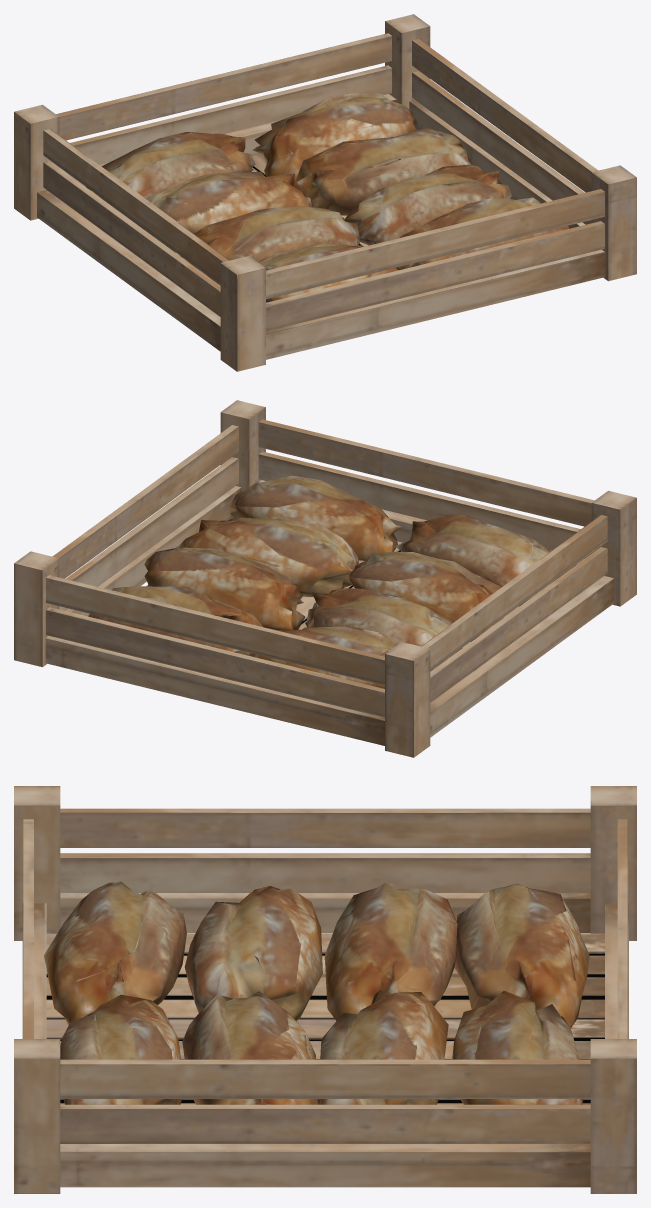
File: MS_BreadStack8.fbx
The picture shows the model from 3 angles, top to bottom: view 1: azimuth 30°, elevation 25°; view 2: azimuth 150°, elevation 25°; view 3: azimuth 270°, elevation 25°; orthographic projection. The views are drawn at different scales.
Parts seen in each view (by area): view 1: Cube.003; view 2: Cube.003; view 3: Cube.003.
Boxes of the visible parts, bbox=[...] form: Cube.003: bbox=[14, 14, 636, 371]; Cube.003: bbox=[14, 400, 636, 757]; Cube.003: bbox=[14, 786, 636, 1193].
Bounding box in the file's own units: 903 × 209 × 872.
Materials: 1 (1 with a texture image).
